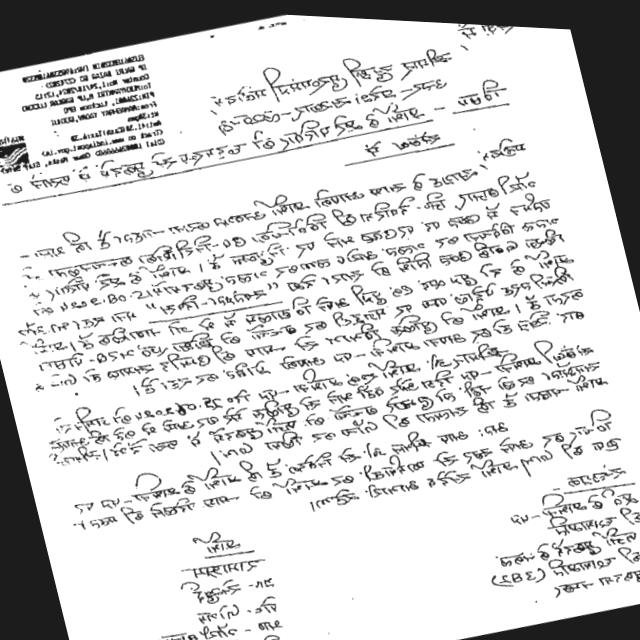speedpoststamp: (0, 37, 177, 197)
